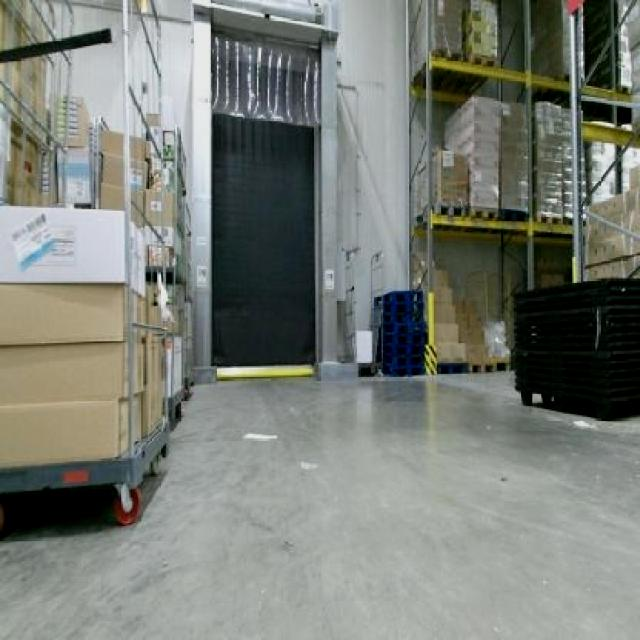floor: (0, 371, 637, 637)
pallets: (514, 278, 637, 415), (372, 289, 425, 372)
